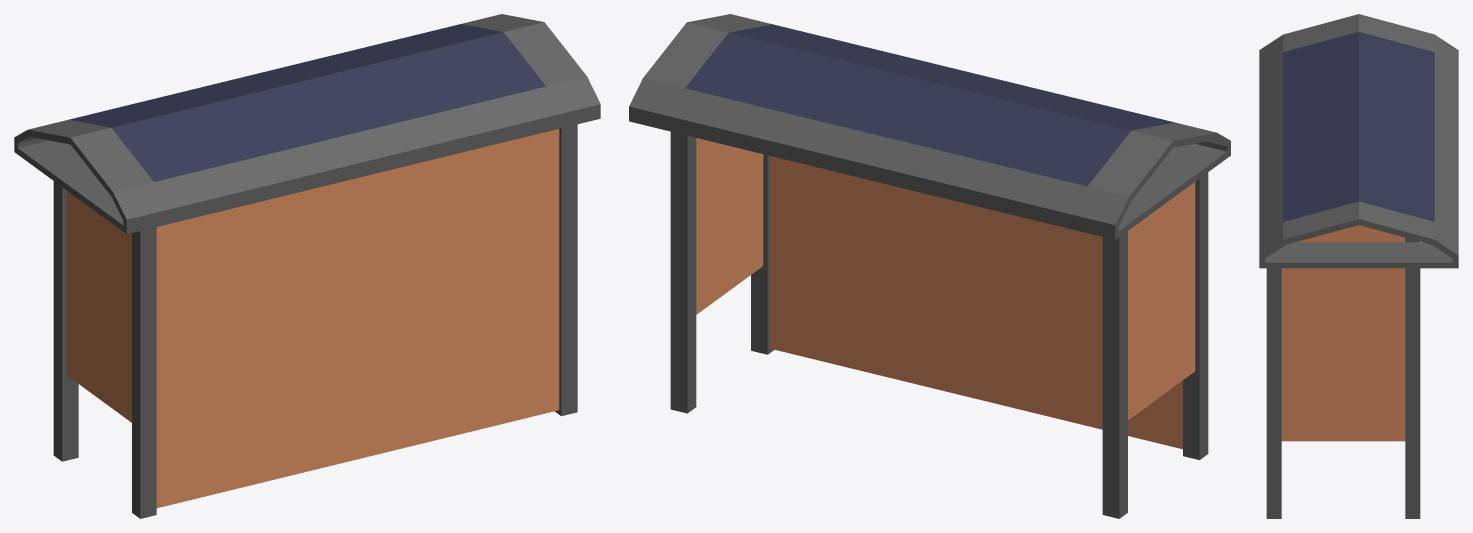
File: BusStop.fbx
The picture shows the model from 3 angles, left to right: view 1: azimuth 30°, elevation 25°; view 2: azimuth 150°, elevation 25°; view 3: azimuth 270°, elevation 25°; orthographic projection. The views are drawn at different scales.
Visible parts, largest first — view 1: BusStop; view 2: BusStop; view 3: BusStop.
Part boxes in pixels (x1=…): BusStop: x1=14, y1=14, x2=600, y2=518; BusStop: x1=629, y1=14, x2=1230, y2=518; BusStop: x1=1259, y1=14, x2=1458, y2=518.
Bounding box in the file's own units: 3.34 × 2.34 × 1.37.
